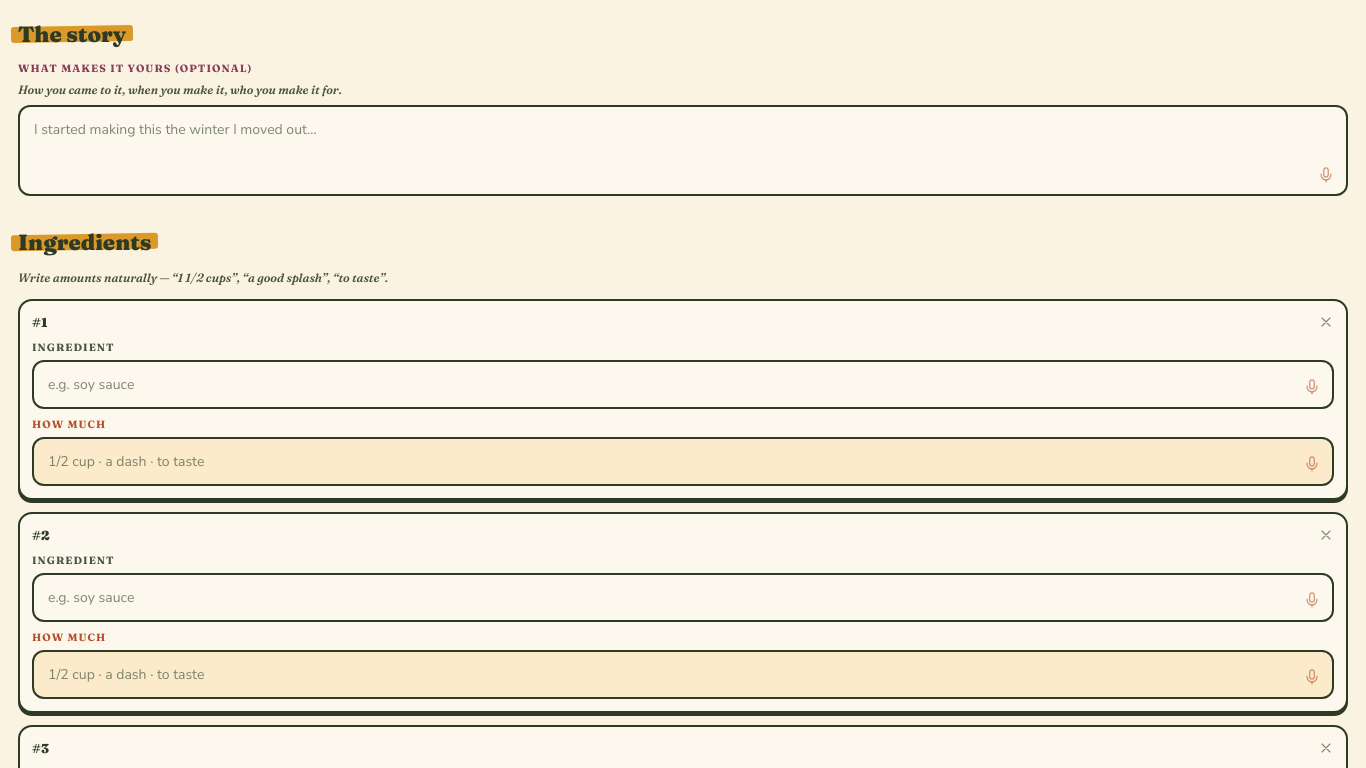
Test: RecipeForm ingredient autosuggest › tapping a suggestion fills the name and lands on the amount
(page scrolled)
Type "gochu" into the 1st dropdown with placeholder "e.g. soy sauce" at coordinates (683, 384), box top-left (32, 360), bottom-right (1334, 409)
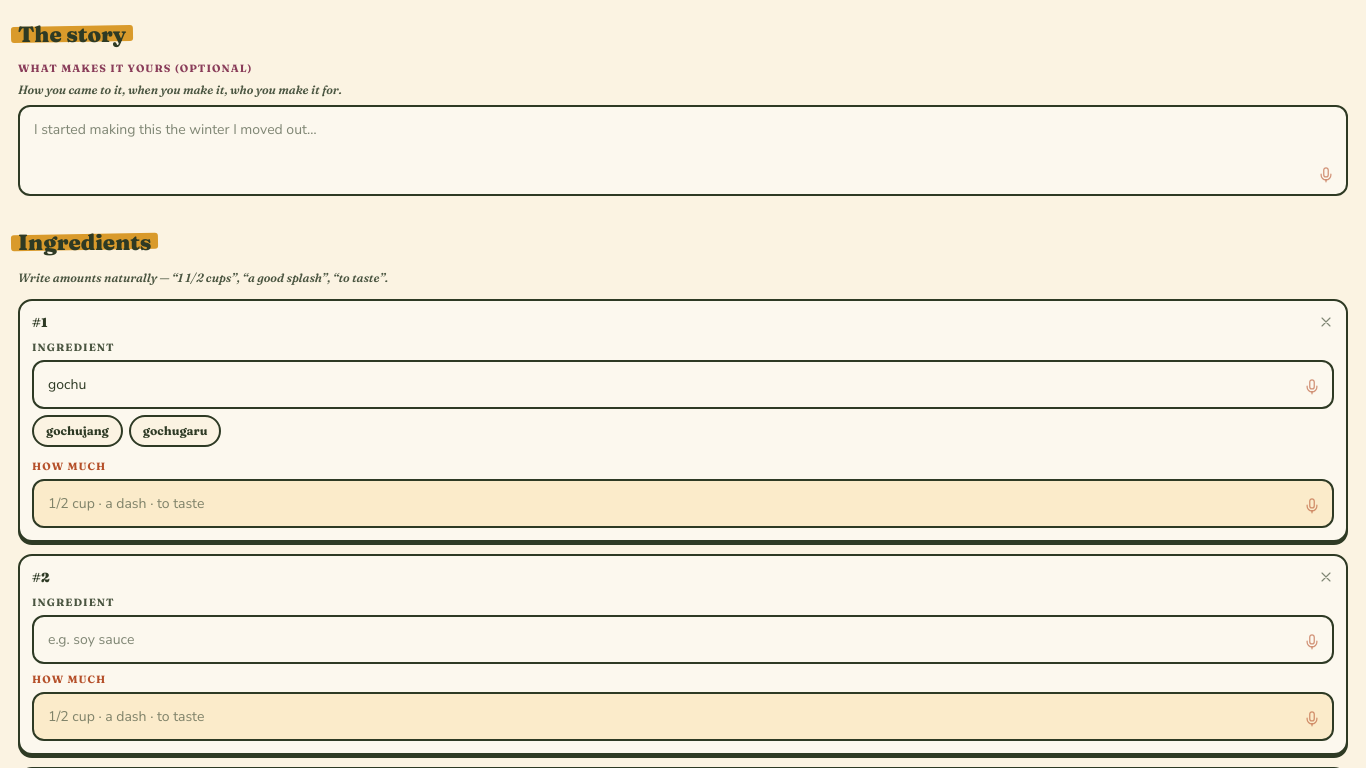
Click the option "gochujang" at coordinates (77, 431), box top-left (32, 415), bottom-right (123, 447)
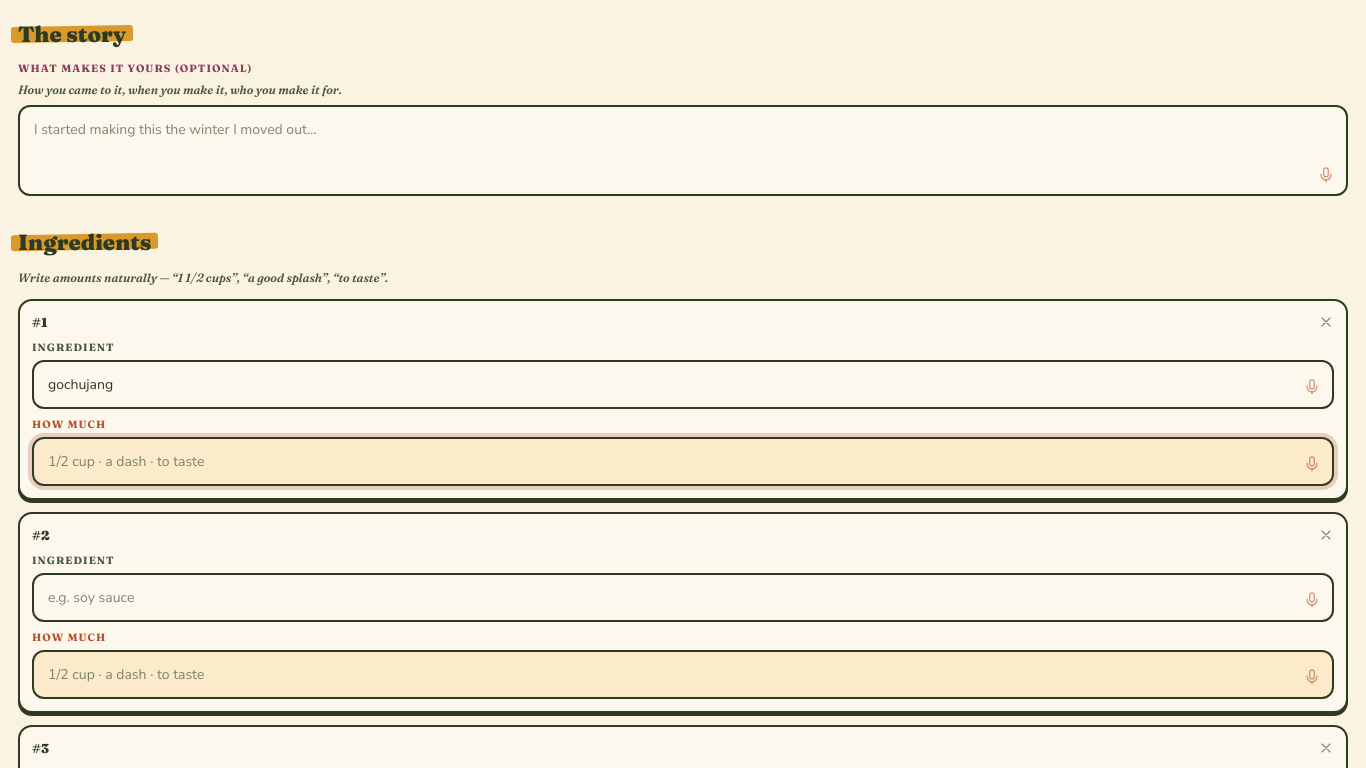
Expected: the 1st dropdown with placeholder "e.g. soy sauce" holds "gochujang", top-left (32, 360), bottom-right (1334, 409)
